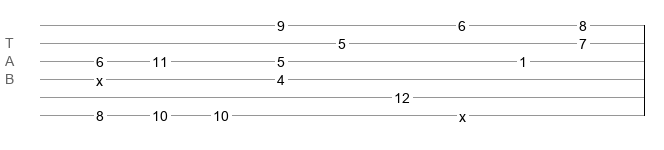1: (519, 54, 527, 64)
10: (152, 108, 168, 118), (213, 108, 229, 118)
11: (152, 54, 168, 64)
12: (394, 90, 410, 100)
4: (277, 72, 285, 82)
5: (277, 54, 285, 64), (338, 36, 346, 46)
6: (96, 54, 104, 64), (458, 18, 466, 28)
7: (579, 36, 587, 46)
8: (96, 108, 104, 118), (579, 18, 587, 28)
9: (277, 18, 285, 28)
x: (96, 73, 103, 81), (459, 109, 466, 117)
